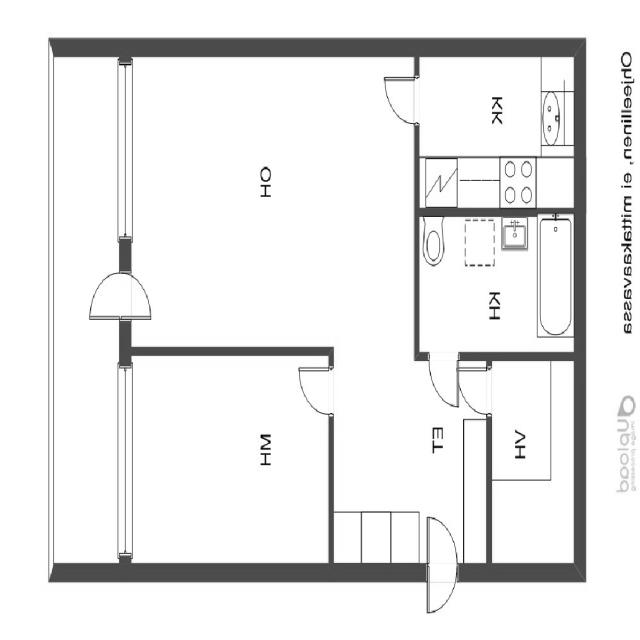door: (83, 265, 157, 328), (421, 509, 460, 619), (424, 349, 486, 412), (452, 355, 498, 424), (380, 61, 424, 130), (295, 359, 336, 419), (119, 268, 158, 324)
window: (107, 354, 143, 565), (106, 49, 142, 250)
zone: (123, 61, 414, 352), (127, 351, 333, 576), (328, 349, 493, 572), (418, 47, 575, 213), (414, 211, 581, 357), (487, 354, 581, 572)
